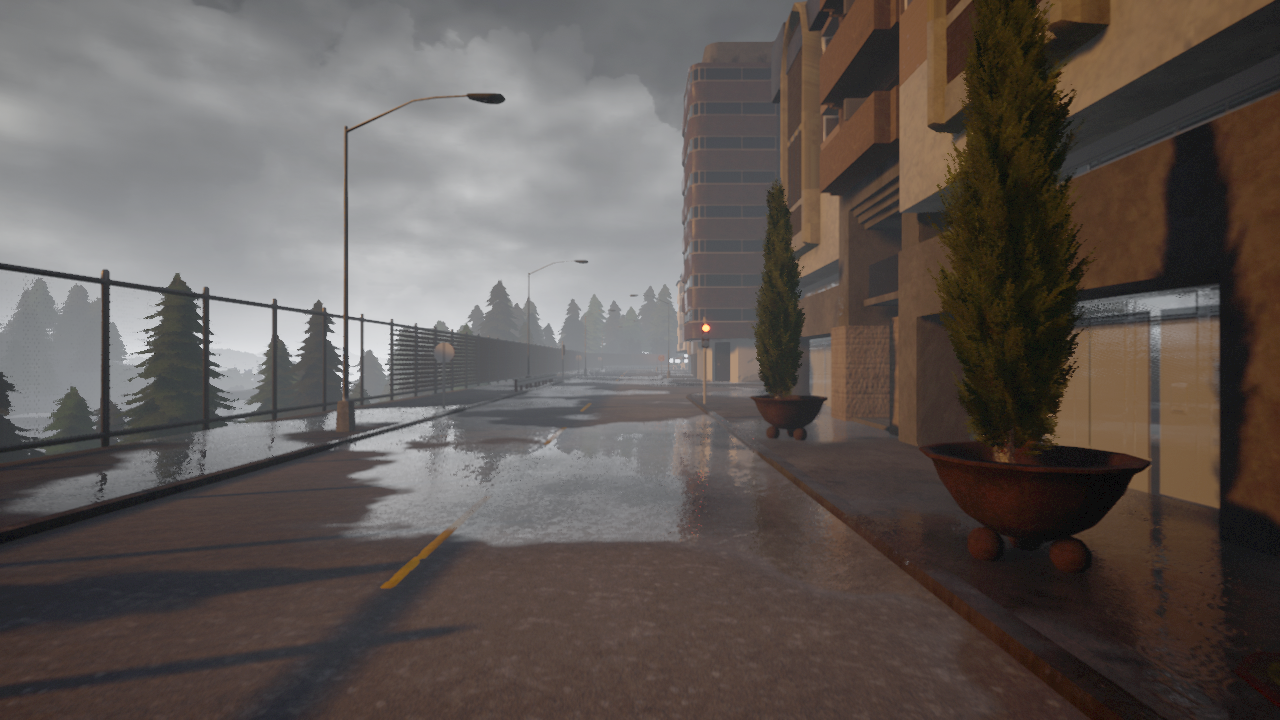red: (701, 322, 711, 350)
